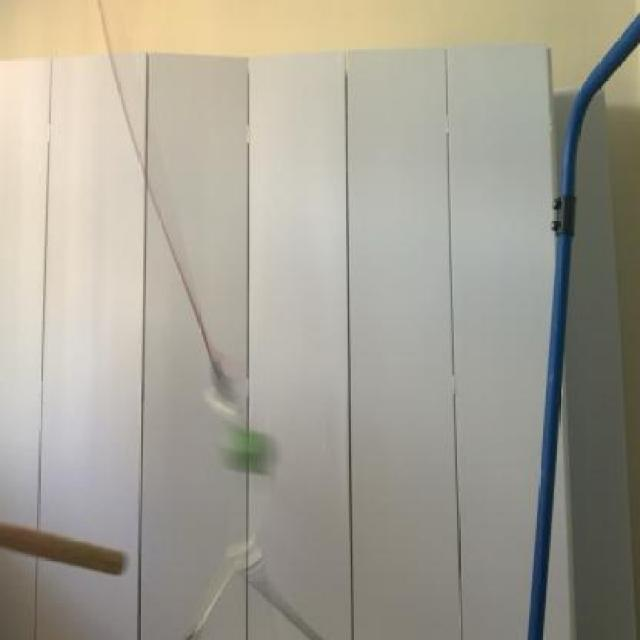baseball: (218, 418, 280, 478)
